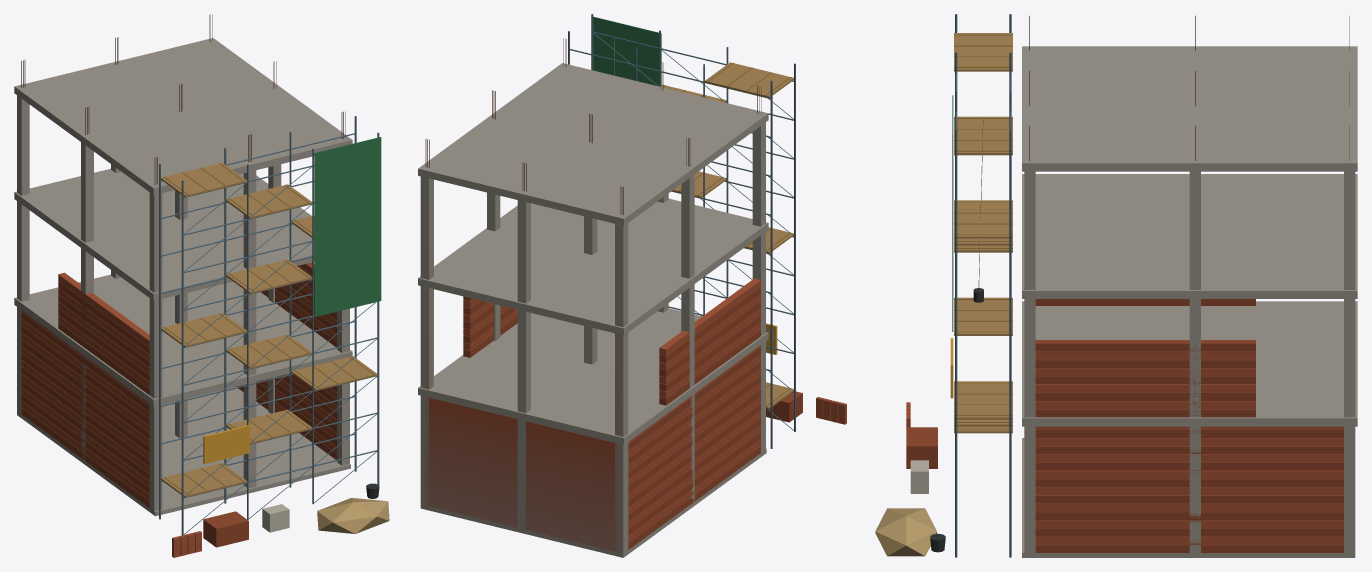
Rendered from nha_dang_xay.glb.
3 renders of one model, left to right at view 1: azimuth 30°, elevation 25°; view 2: azimuth 150°, elevation 25°; view 3: azimuth 270°, elevation 25°, orthographic. The views are drawn at different scales.
Parts seen in each view (by area): view 1: nha_dang_xay; view 2: nha_dang_xay; view 3: nha_dang_xay.
Boxes of the visible parts, x1,y1,x2,y2 form: nha_dang_xay: (14, 14, 389, 557); nha_dang_xay: (418, 14, 846, 557); nha_dang_xay: (875, 14, 1357, 557).
Bounding box in the file's own units: 6.95 × 10.85 × 10.63.
